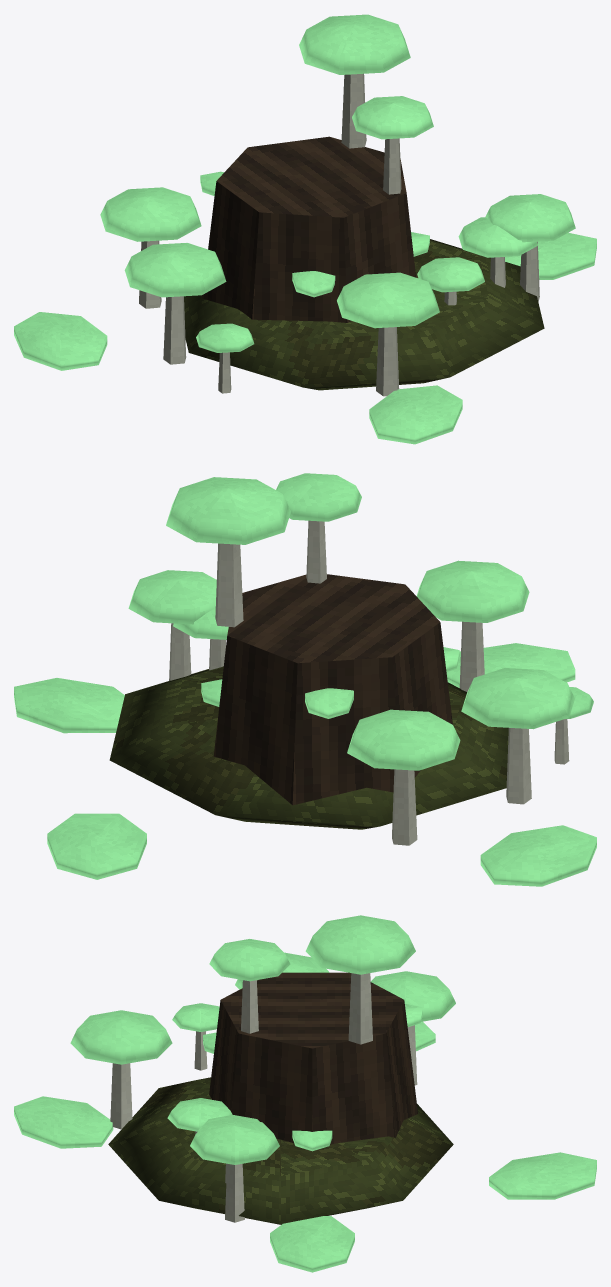
File: town_glow_fungus.glb
3 renders of one model, top to bottom at view 1: azimuth 30°, elevation 25°; view 2: azimuth 150°, elevation 25°; view 3: azimuth 270°, elevation 25°, orthographic. The views are drawn at different scales.
Parts seen in each view (by area): view 1: detail; view 2: detail; view 3: detail.
Part boxes in pixels (x1=…): detail: x1=14, y1=14, x2=596, y2=444; detail: x1=14, y1=473, x2=596, y2=886; detail: x1=14, y1=915, x2=596, y2=1272.
Size of what is drawn, in the model's own units: 1.9 by 0.9489 by 1.86.
Materials: 4 (4 with a texture image).
